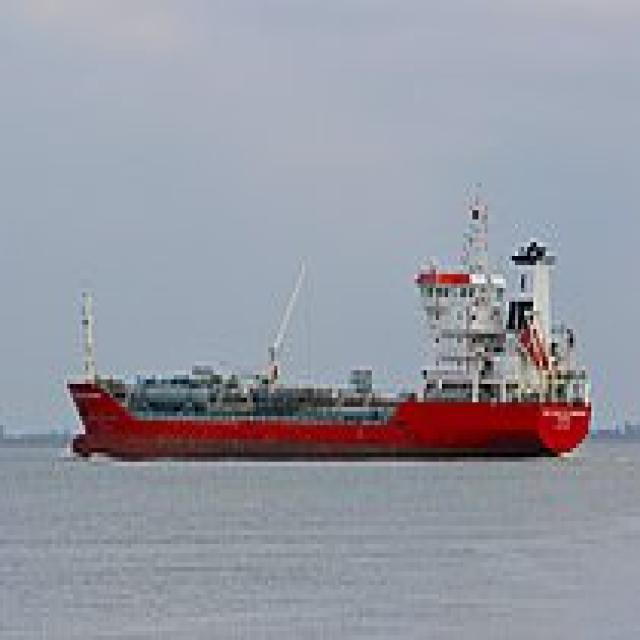Tanker: (61, 174, 588, 457)
